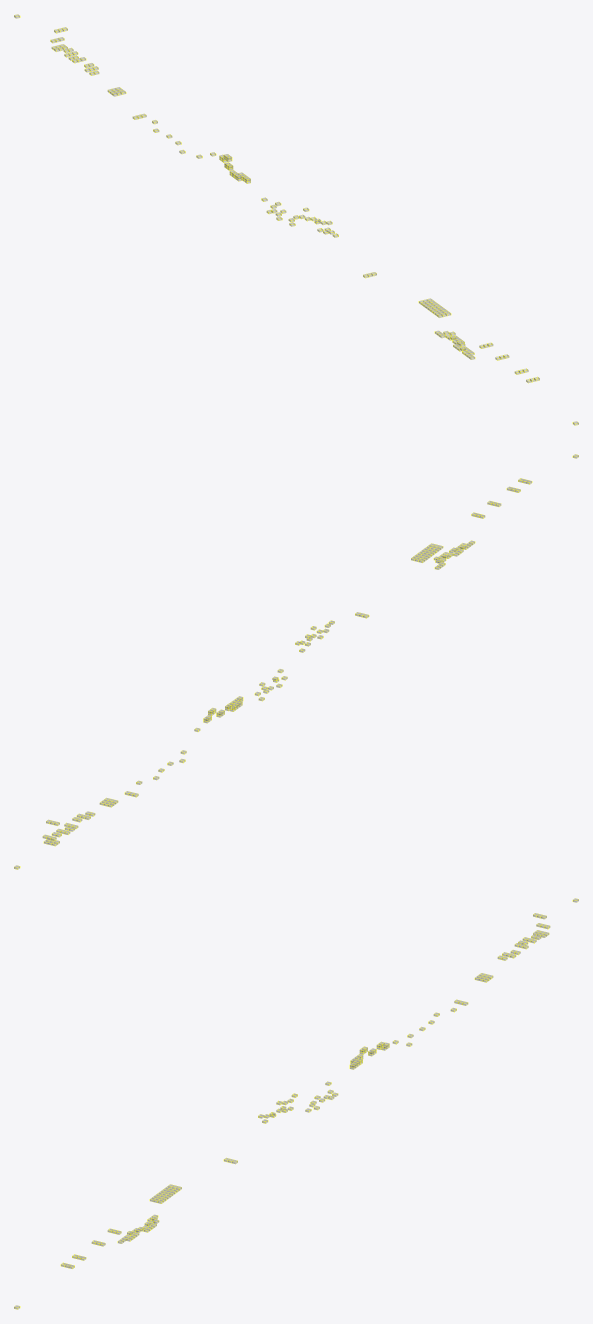
The model's file is PlatF Lvl11.fbx.
3 renders of one model, top to bottom at view 1: azimuth 30°, elevation 25°; view 2: azimuth 150°, elevation 25°; view 3: azimuth 330°, elevation 25°, orthographic.
Size of the model in its own units: 600 by 1500 by 49200.
